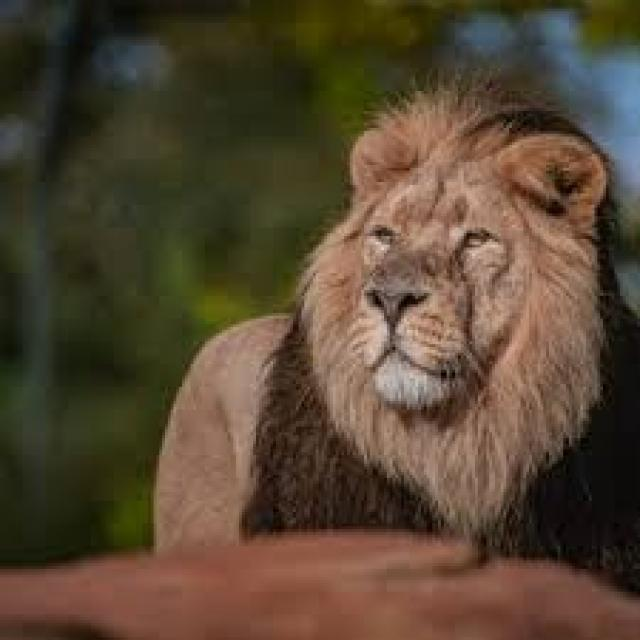Lion: (155, 89, 637, 594)
